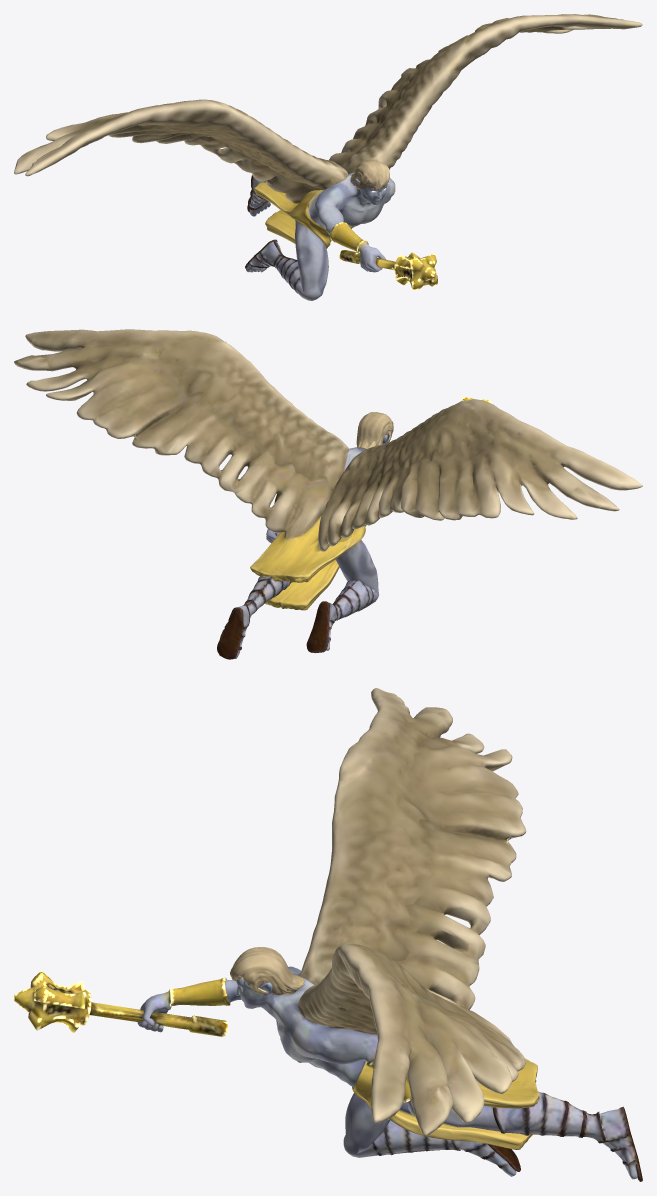
Rendered from MZ4250 - Angel Deva Updated.glb.
3 renders of one model, top to bottom at view 1: azimuth 30°, elevation 25°; view 2: azimuth 150°, elevation 25°; view 3: azimuth 270°, elevation 25°, orthographic. The views are drawn at different scales.
Parts seen in each view (by area): view 1: Deva Updated sculpted.001; view 2: Deva Updated sculpted.001; view 3: Deva Updated sculpted.001.
Boxes of the visible parts, x1=… form: Deva Updated sculpted.001: x1=14, y1=14, x2=642, y2=300; Deva Updated sculpted.001: x1=14, y1=329, x2=642, y2=659; Deva Updated sculpted.001: x1=14, y1=688, x2=642, y2=1181.
Size of the model in its own units: 85.86 by 31.84 by 52.78.
1 material, 1 textured.
